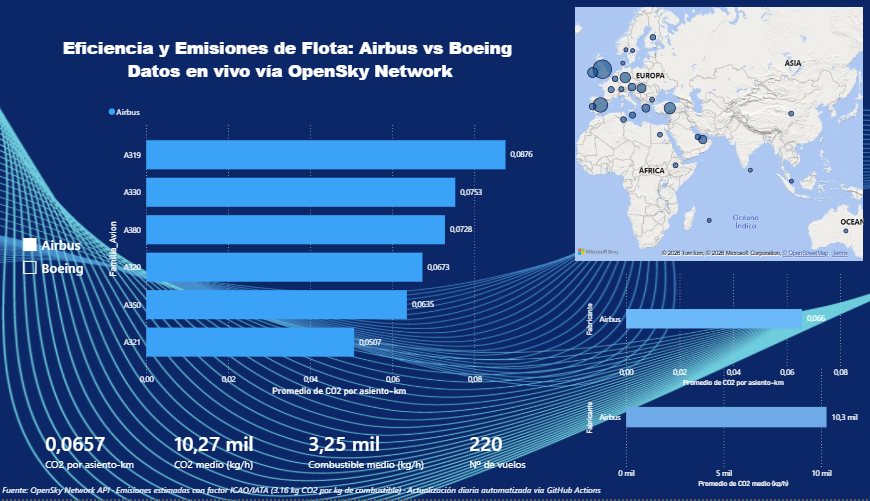

This screenshot's page, from the dashboard's own definition file:
{"tool":"powerbi","page":{"name":"Airbus vs Boeing","canvas":[1400,800],"ordinal":0},"visuals":[{"type":"cardVisual","fields":{"Data":["Avg(flight_efficiency.estimated_co2_kg_h)"]},"box":[251.2,652.8,214.4,136],"z":0},{"type":"cardVisual","fields":{"Data":["Avg(flight_efficiency.estimated_fuel_burn_kg_h)"]},"box":[465.6,651.2,276.8,140.8],"z":1000},{"type":"cardVisual","fields":{"Data":["CountNonNull(flight_efficiency.icao24)"]},"box":[723.2,659.2,235.2,123.2],"z":2000},{"type":"clusteredBarChart","fields":{"Category":["flight_efficiency.manufacturer"],"Y":["Avg(flight_efficiency.estimated_co2_kg_h)"]},"box":[934.4,579.2,465.6,206.4],"z":3000},{"type":"clusteredBarChart","fields":{"Category":["flight_efficiency.Familia_Avion"],"Y":["Avg(flight_efficiency.co2_per_seat_km)"],"Series":["flight_efficiency.manufacturer"]},"box":[169.6,160,700.8,480],"z":4000},{"type":"map","fields":{"Category":["flight_efficiency.origin_country"],"Size":["CountNonNull(flight_efficiency.icao24)"]},"box":[916.2,8.8,471.2,416.2],"z":5000},{"type":"slicer","fields":{"Values":["flight_efficiency.manufacturer"]},"box":[25,370,164,108],"z":6000},{"type":"textbox","box":[25.6,54.4,880,150.4],"z":7000},{"type":"textbox","box":[0,771.2,1297.6,28.8],"z":8000},{"type":"cardVisual","fields":{"Data":["Avg(flight_efficiency.co2_per_seat_km)"]},"box":[44.8,652.8,238.4,136],"z":9000},{"type":"clusteredBarChart","fields":{"Category":["flight_efficiency.manufacturer"],"Y":["Avg(flight_efficiency.co2_per_seat_km)"]},"box":[935,425,428.8,198.8],"z":10000}]}

Visuals, with their boxes in screenshot pixels (x1, y1, x2, y2), scaled from the page's 1400x800 canvas onto the 870x501 screenshot:
cardVisual - Avg(flight_efficiency.estimated_co2_kg_h): detection(156, 409, 289, 494)
cardVisual - Avg(flight_efficiency.estimated_fuel_burn_kg_h): detection(289, 408, 461, 496)
cardVisual - CountNonNull(flight_efficiency.icao24): detection(449, 413, 596, 490)
clusteredBarChart - flight_efficiency.manufacturer x Avg(flight_efficiency.estimated_co2_kg_h): detection(581, 363, 869, 492)
clusteredBarChart - flight_efficiency.Familia_Avion x Avg(flight_efficiency.co2_per_seat_km): detection(105, 100, 541, 401)
map - flight_efficiency.origin_country x CountNonNull(flight_efficiency.icao24): detection(569, 6, 862, 266)
slicer - flight_efficiency.manufacturer: detection(16, 232, 117, 299)
textbox: detection(16, 34, 563, 128)
textbox: detection(0, 483, 806, 500)
cardVisual - Avg(flight_efficiency.co2_per_seat_km): detection(28, 409, 176, 494)
clusteredBarChart - flight_efficiency.manufacturer x Avg(flight_efficiency.co2_per_seat_km): detection(581, 266, 848, 391)
